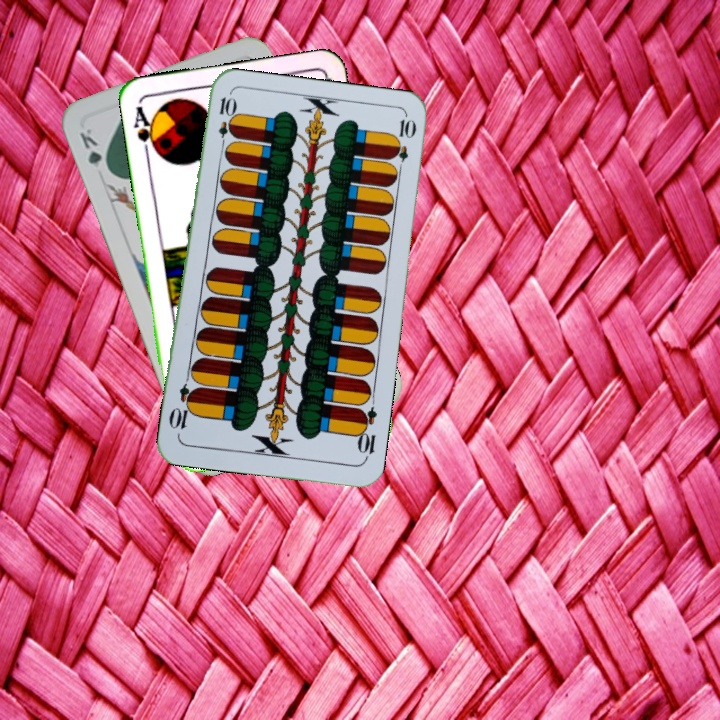E10: (352, 404, 379, 463), (214, 93, 235, 152)
GK: (75, 124, 113, 177)
SA: (130, 102, 162, 160)
